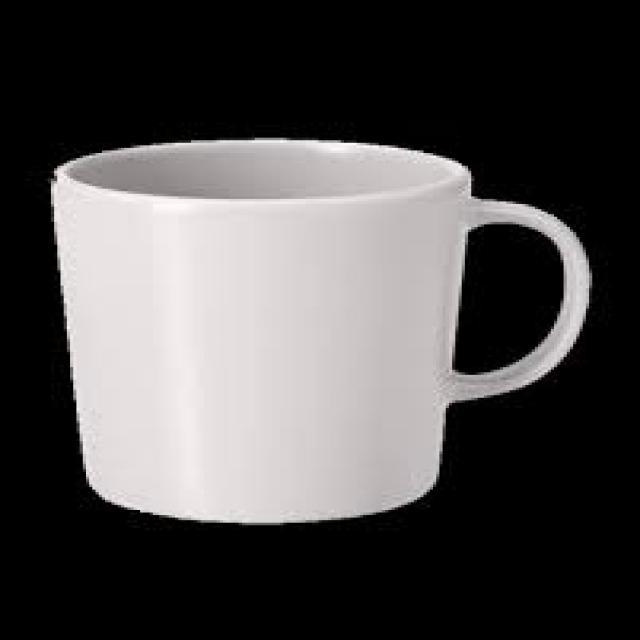taza: (54, 136, 596, 527)
